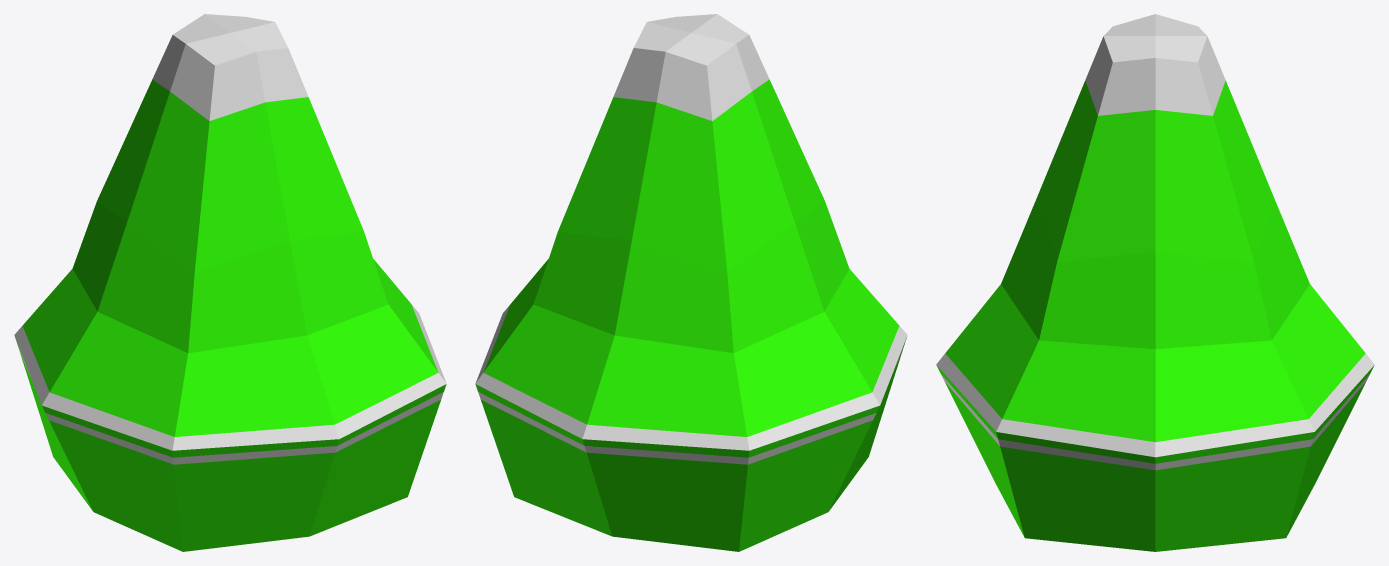
File: luz verde.fbx
The picture shows the model from 3 angles, left to right: view 1: azimuth 30°, elevation 25°; view 2: azimuth 150°, elevation 25°; view 3: azimuth 270°, elevation 25°; orthographic projection.
Parts seen in each view (by area): view 1: Cube; view 2: Cube; view 3: Cube.
Boxes of the visible parts, box(x1,y1,x2,y2) form: Cube: box(14, 14, 446, 551); Cube: box(475, 14, 907, 551); Cube: box(936, 14, 1374, 551).
Bounding box in the file's own units: 298 × 378 × 298.
